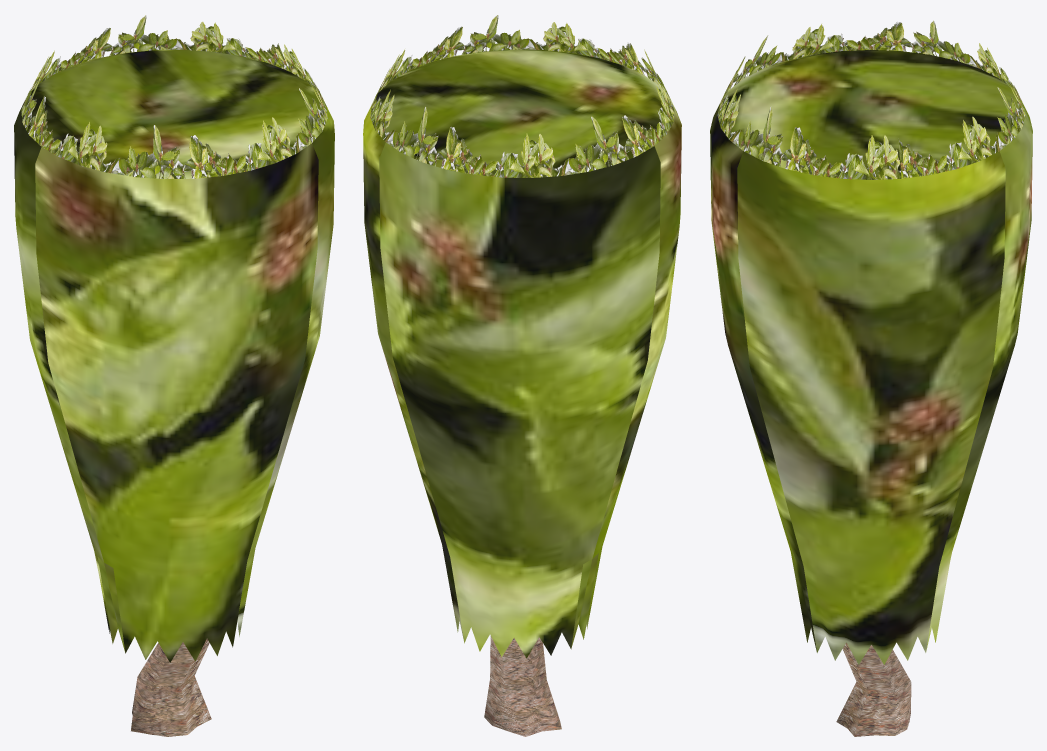
File: messa_side_tree.fbx
3 renders of one model, left to right at view 1: azimuth 30°, elevation 25°; view 2: azimuth 150°, elevation 25°; view 3: azimuth 270°, elevation 25°, orthographic.
Visible parts, largest first — view 1: messtree; view 2: messtree; view 3: messtree.
Boxes of the visible parts, box(x1,y1,x2,y2) form: messtree: box(14, 15, 334, 736); messtree: box(363, 15, 681, 736); messtree: box(710, 20, 1032, 736).
Size of the model in its own units: 293 by 656 by 293.
